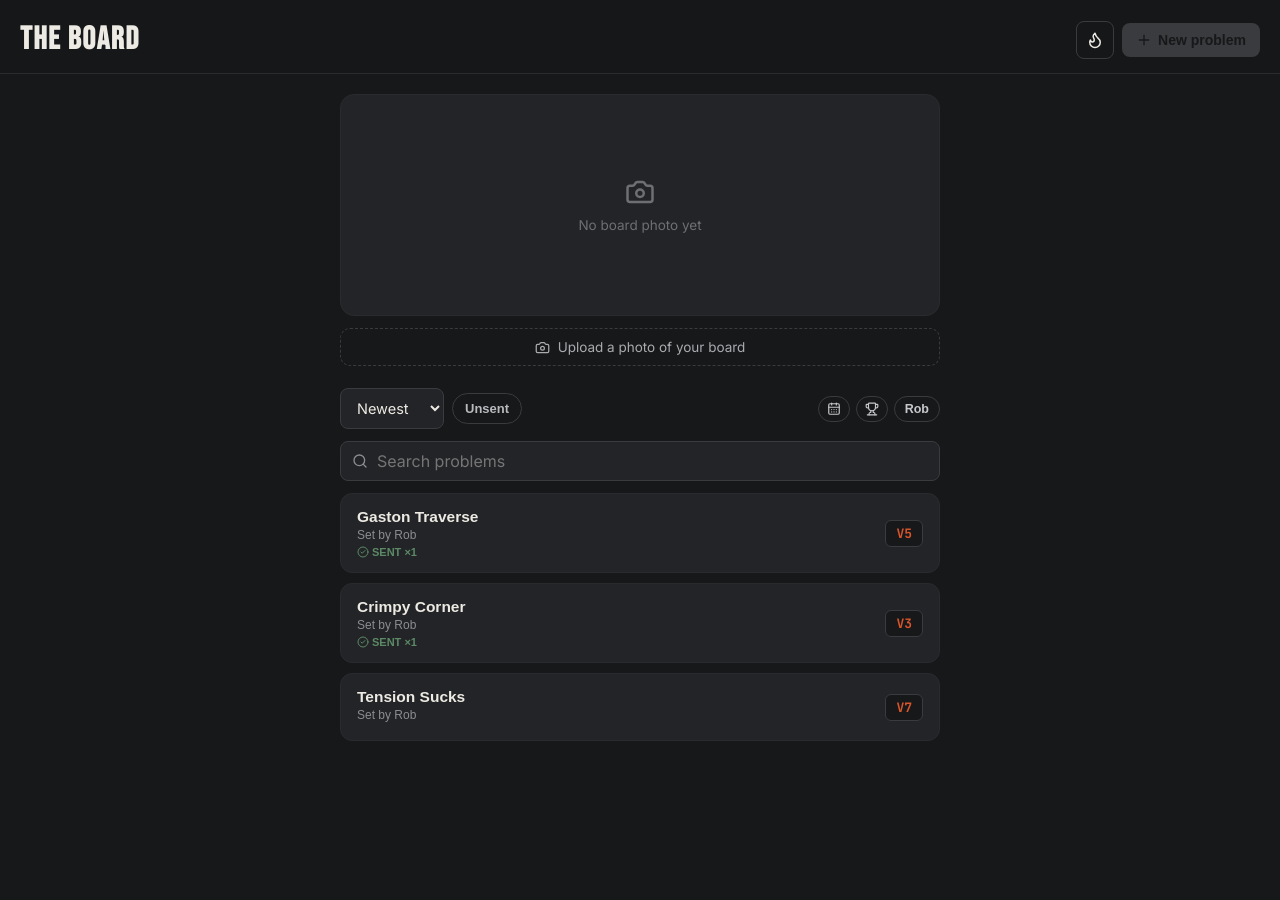
Test: App (unsent by the current climber) › hides only what you've sent, keeping problems only someone else has sent
This screenshot has width=1280, height=900.
Expected: the button with aria-label "Climbing as Rob" is shown, top-left (894, 396), bottom-right (940, 422)
Click the button "Unsent". click: (487, 408)
box: top-left (452, 393), bottom-right (522, 424)
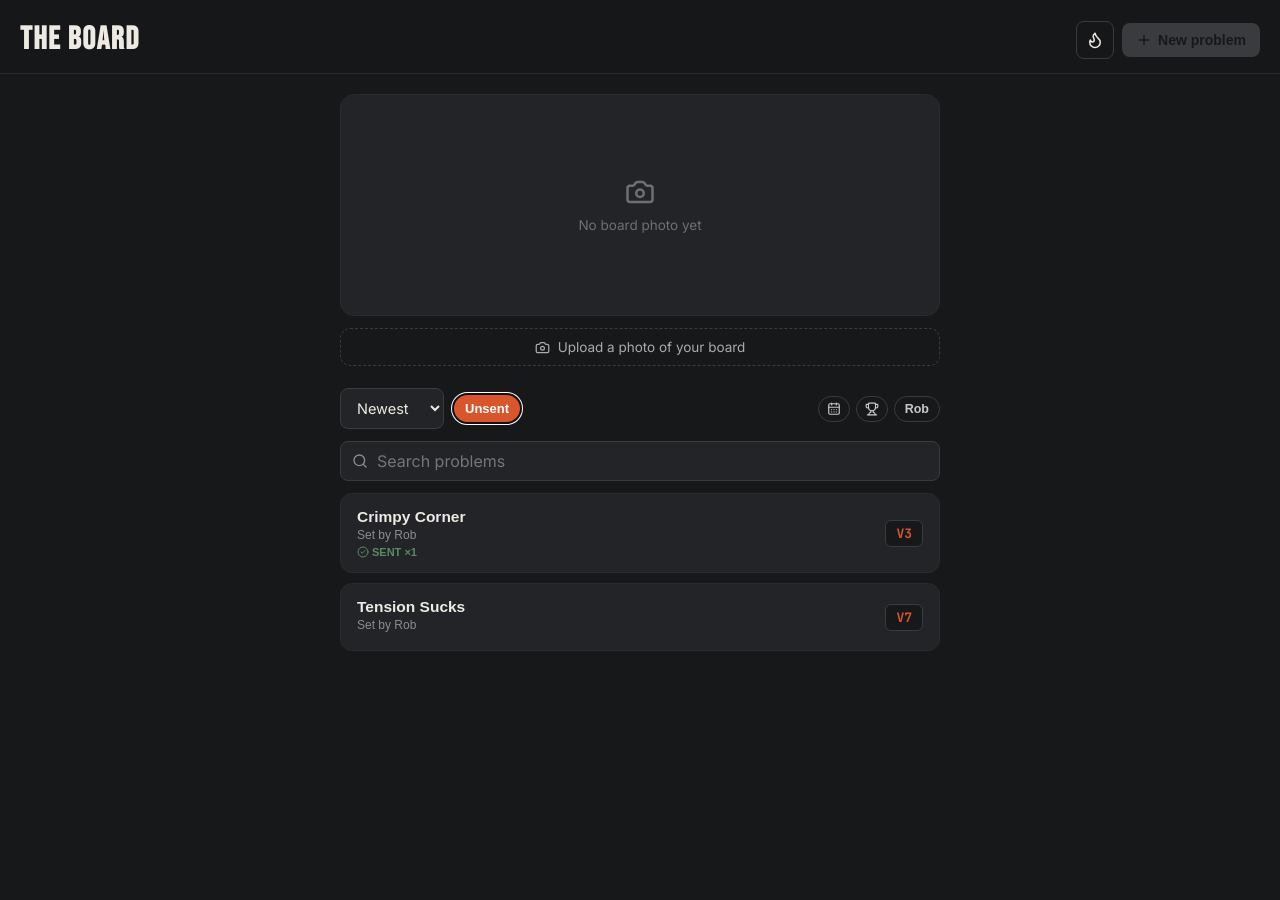
Expected: the text "Crimpy Corner" is shown, top-left (357, 508), bottom-right (466, 526)
Expected: the button "Gaston Traverse" is gone
